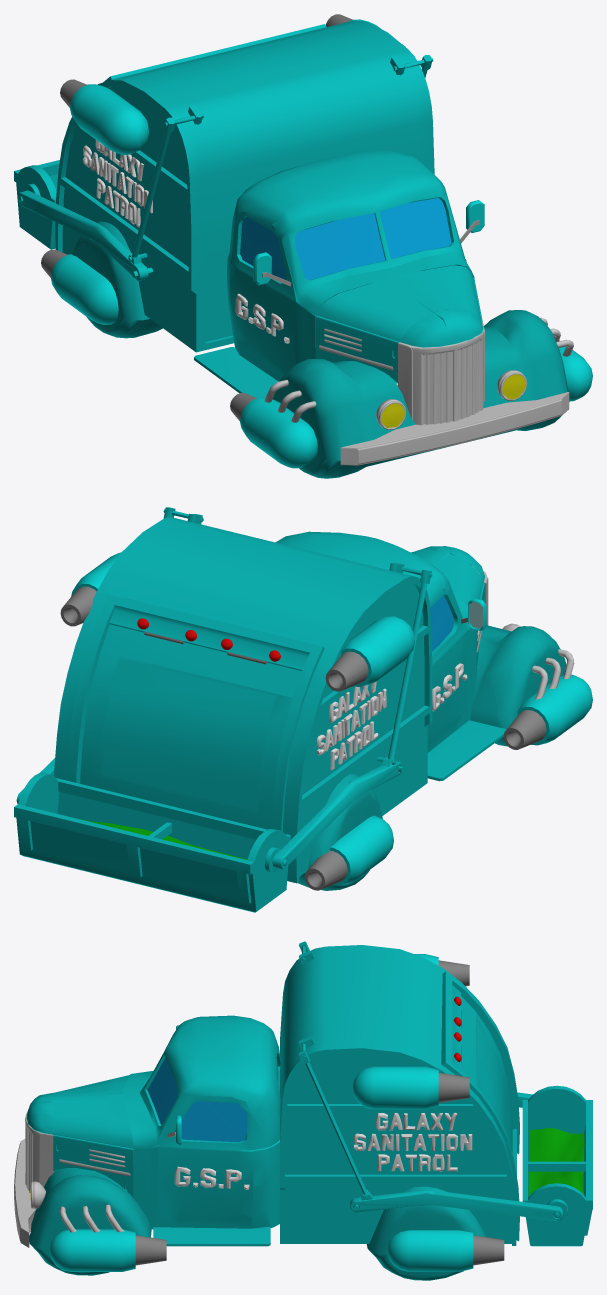
The model's file is sanitation-ship.glb.
3 renders of one model, top to bottom at view 1: azimuth 30°, elevation 25°; view 2: azimuth 150°, elevation 25°; view 3: azimuth 270°, elevation 25°, orthographic. The views are drawn at different scales.
Parts seen in each view (by area): view 1: Geode; view 2: Geode; view 3: Geode.
Part boxes in pixels (bbox=[...]): Geode: bbox=[14, 14, 592, 478]; Geode: bbox=[14, 507, 592, 912]; Geode: bbox=[14, 941, 592, 1280].
Size of the model in its own units: 370 by 304 by 676.
